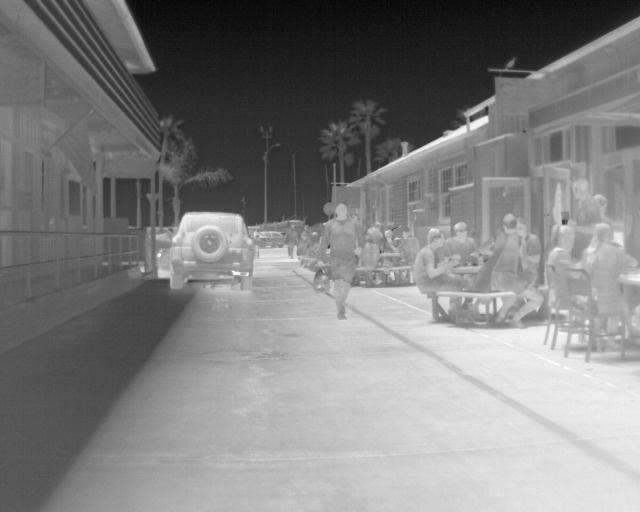bicycle: (169, 210, 252, 293), (255, 232, 285, 248)
empty: (474, 214, 545, 328), (580, 222, 639, 309), (322, 202, 361, 320), (411, 227, 456, 292), (545, 223, 579, 309), (440, 219, 482, 264), (516, 223, 540, 284), (355, 235, 382, 270), (399, 226, 421, 266), (283, 223, 299, 259), (304, 232, 321, 261), (382, 229, 399, 251)
